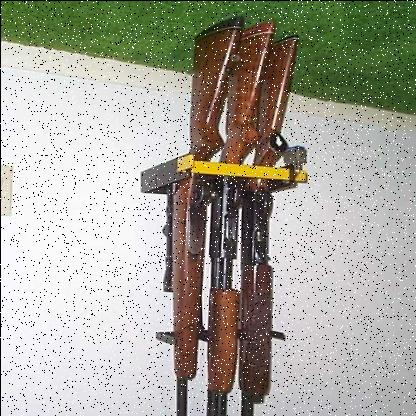rifle: (158, 4, 246, 416)
